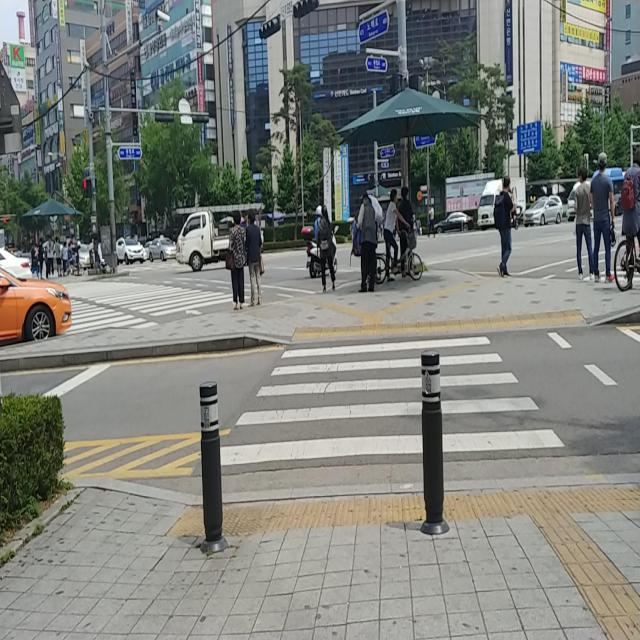횡단보도: (220, 333, 567, 468)
